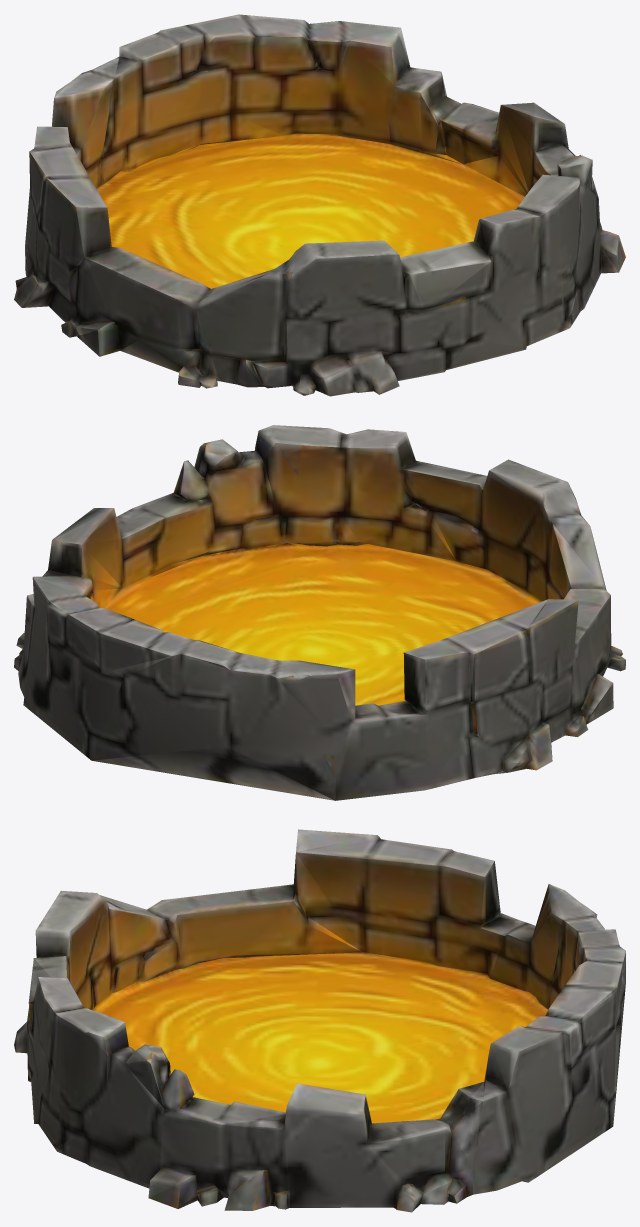
The model's file is obj_well_yellow.glb.
3 views of the same model, one above another, from view 1: azimuth 30°, elevation 25°; view 2: azimuth 150°, elevation 25°; view 3: azimuth 270°, elevation 25° (orthographic). The views are drawn at different scales.
Parts seen in each view (by area): view 1: Magic well yellow; view 2: Magic well yellow; view 3: Magic well yellow.
Boxes of the visible parts, left/top/right/bottom form: Magic well yellow: left=14, top=14, right=625, bottom=396; Magic well yellow: left=14, top=425, right=625, bottom=800; Magic well yellow: left=14, top=829, right=625, bottom=1212.
Size of the model in its own units: 1.9 by 0.4781 by 1.88.
Materials: 1 (1 with a texture image).
